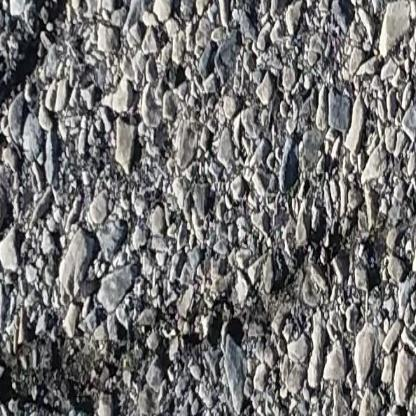Cracks: (0, 200, 393, 416), (0, 0, 80, 140), (110, 0, 142, 9)
